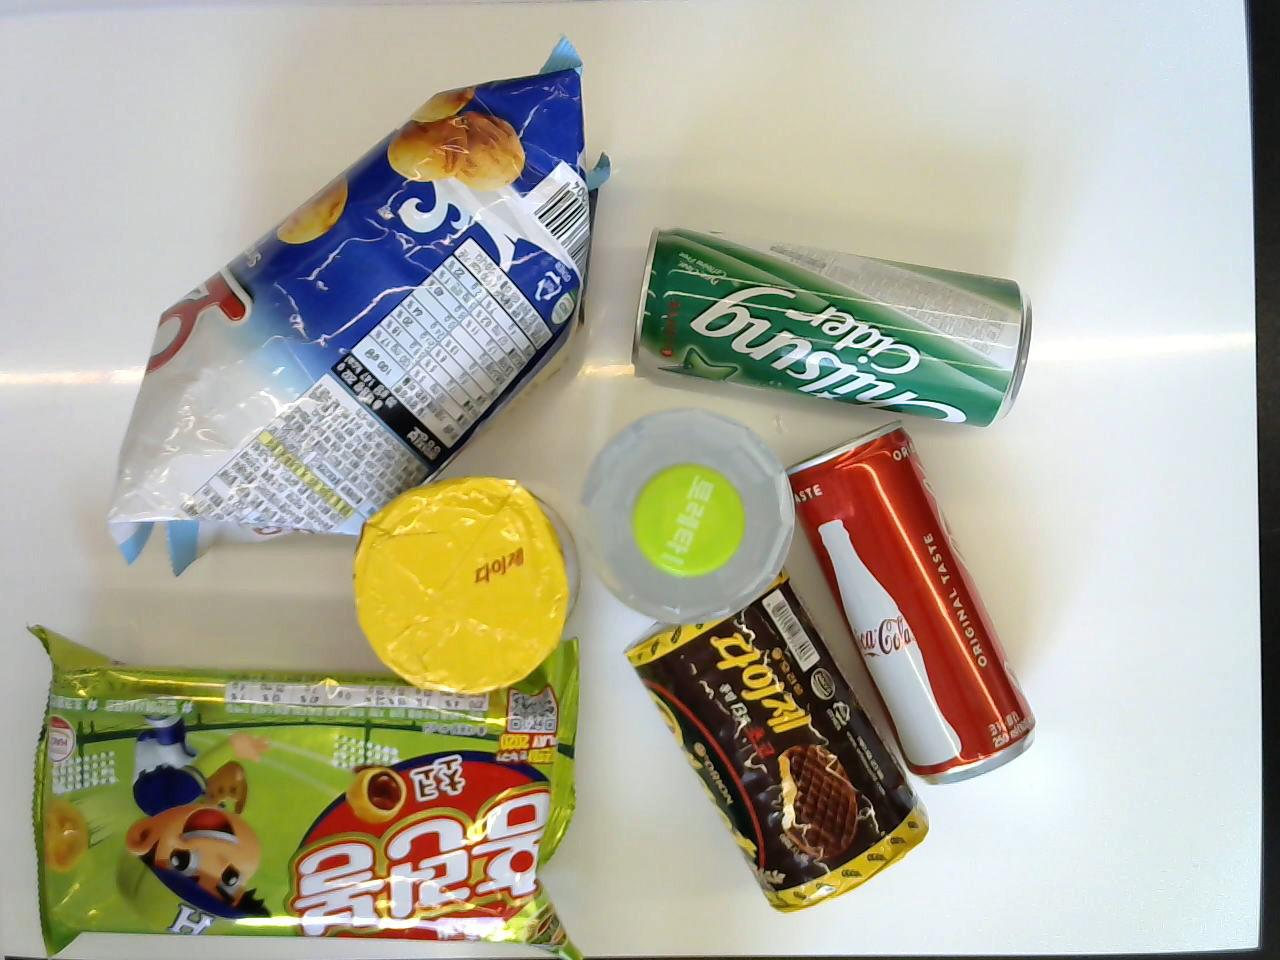cidar: (631, 227, 1037, 429)
coke: (784, 427, 1046, 786)
diget_choco: (631, 569, 931, 914)
diget_ori: (346, 478, 582, 699)
homerunball: (29, 623, 582, 953)
squid_peanut: (97, 35, 605, 580)
toreta: (581, 408, 799, 632)
